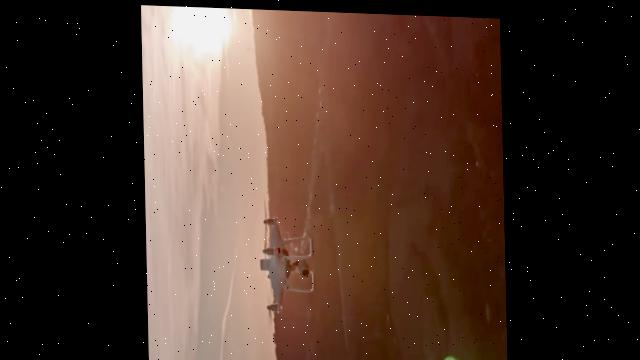drone: (255, 195, 314, 321)
